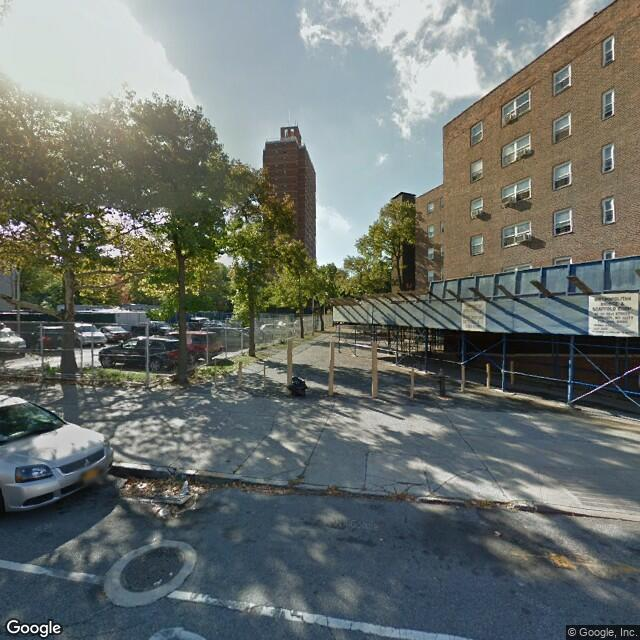litter: (180, 480, 190, 491)
